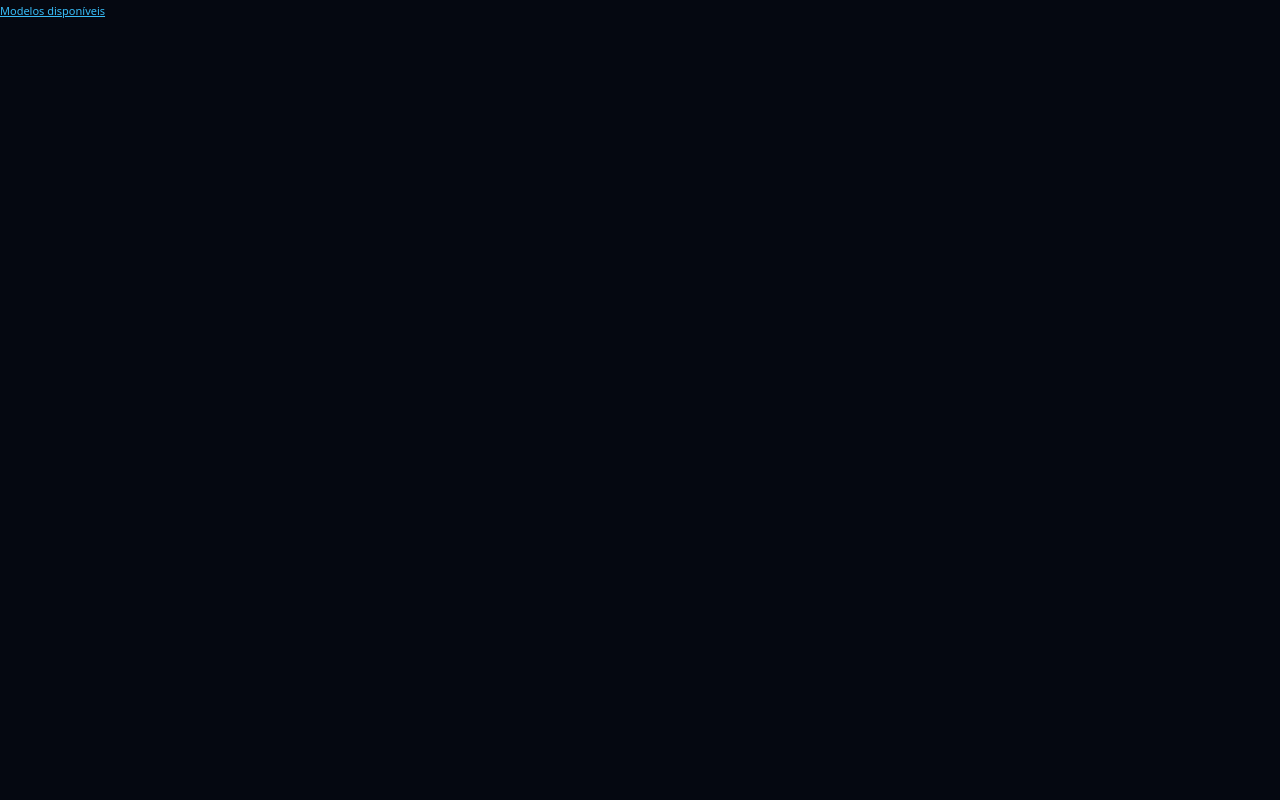
consulta o catálogo da conta selecionada e mostra o resultado da integração
Click the button with aria-label "Modelos disponíveis para Alpha". click: click(53, 10)
box: [0,0,105,21]
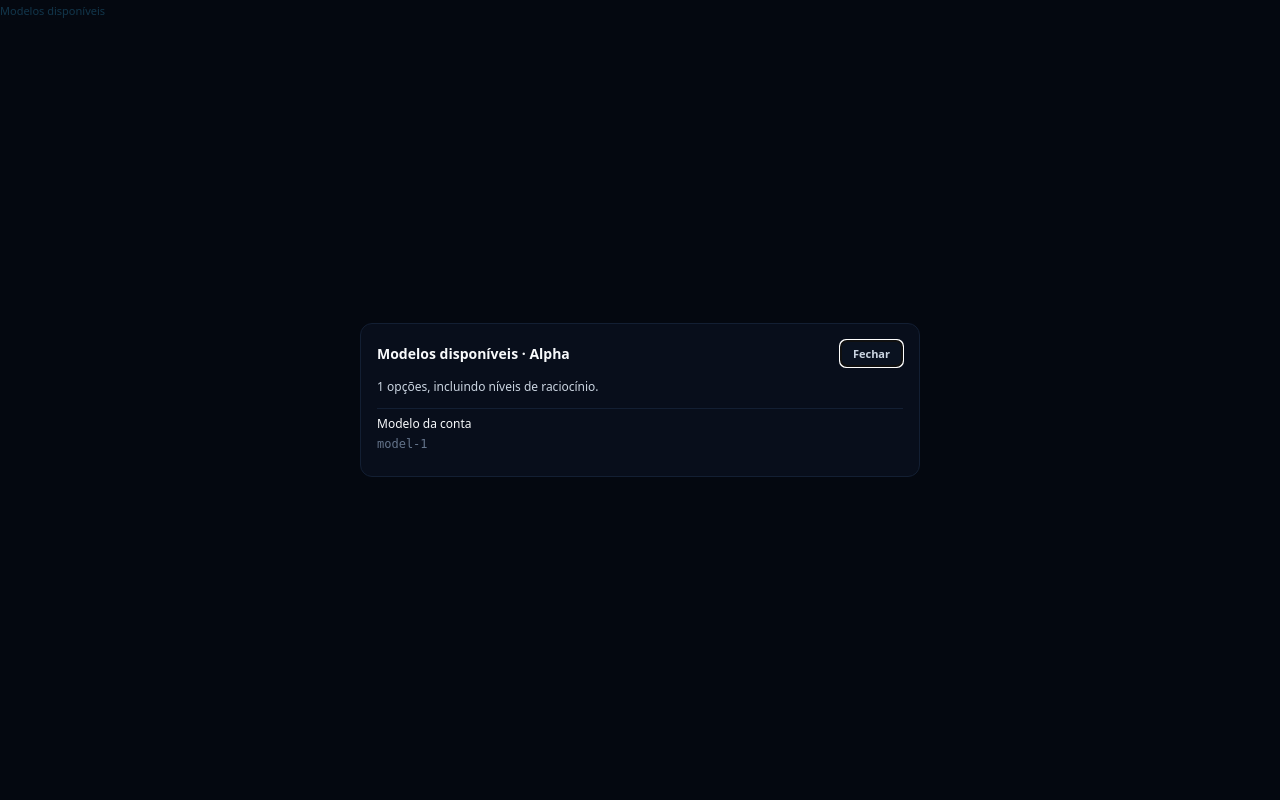
Expected: the text "Modelo da conta" is shown, [377,415,472,432]
